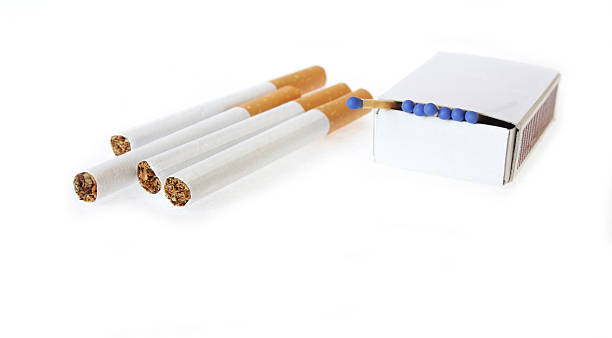cigarette: (66, 84, 301, 205), (162, 86, 379, 209), (134, 80, 352, 197), (108, 63, 327, 158)
